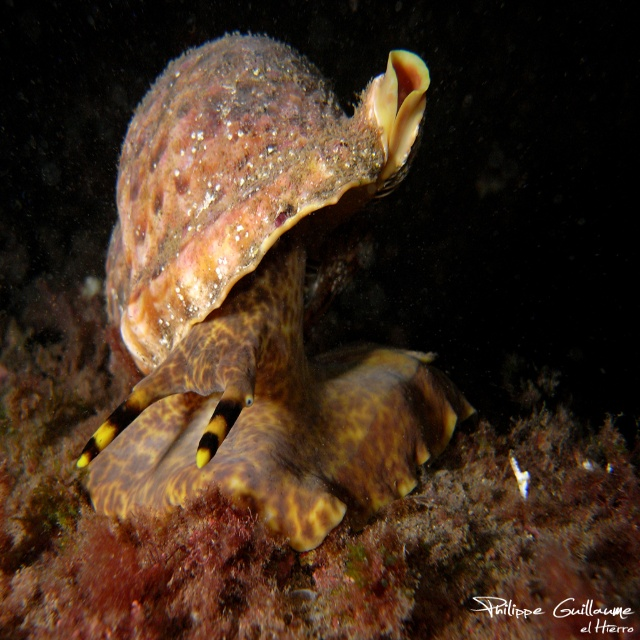Snail: (76, 28, 479, 552)
